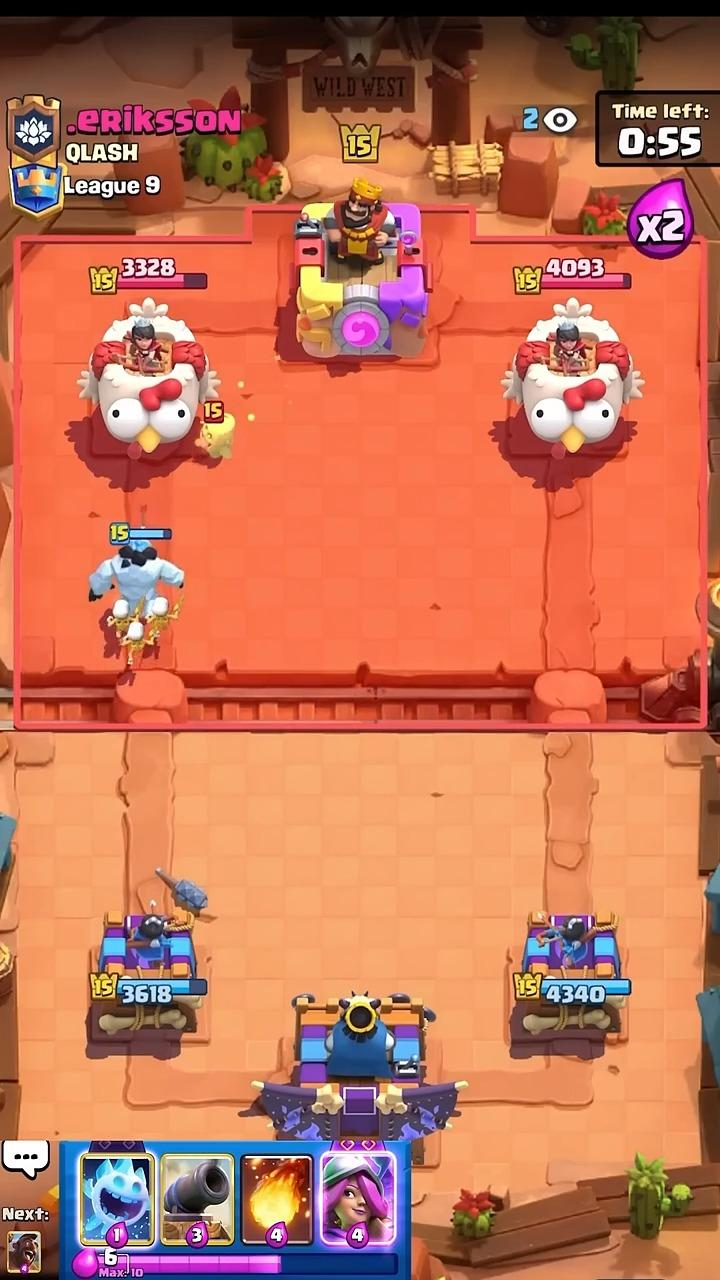heal spirit: (196, 414, 234, 457)
ice golem: (89, 539, 184, 616)
skeletons: (107, 596, 182, 667)
